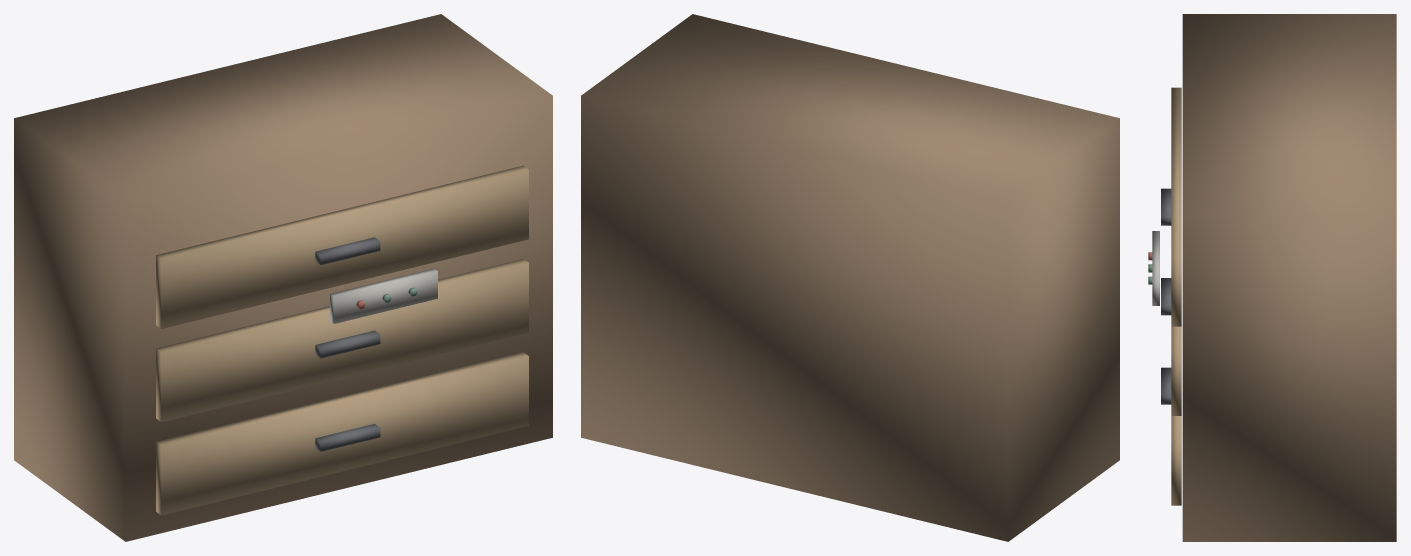
Rendered from residential_dresser.glb.
3 views of the same model, side by side, from view 1: azimuth 30°, elevation 25°; view 2: azimuth 150°, elevation 25°; view 3: azimuth 270°, elevation 25° (orthographic). The views are drawn at different scales.
Visible parts, largest first — view 1: world; view 2: world; view 3: world.
Part boxes in pixels (x1=…): world: x1=14, y1=14, x2=552, y2=541; world: x1=581, y1=14, x2=1119, y2=541; world: x1=1148, y1=14, x2=1396, y2=541.
Bounding box in the file's own units: 1.15 × 0.88 × 0.6035.
